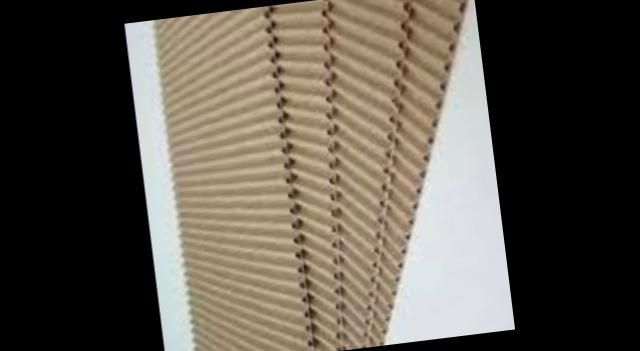cardboard paper: (151, 0, 460, 351)
